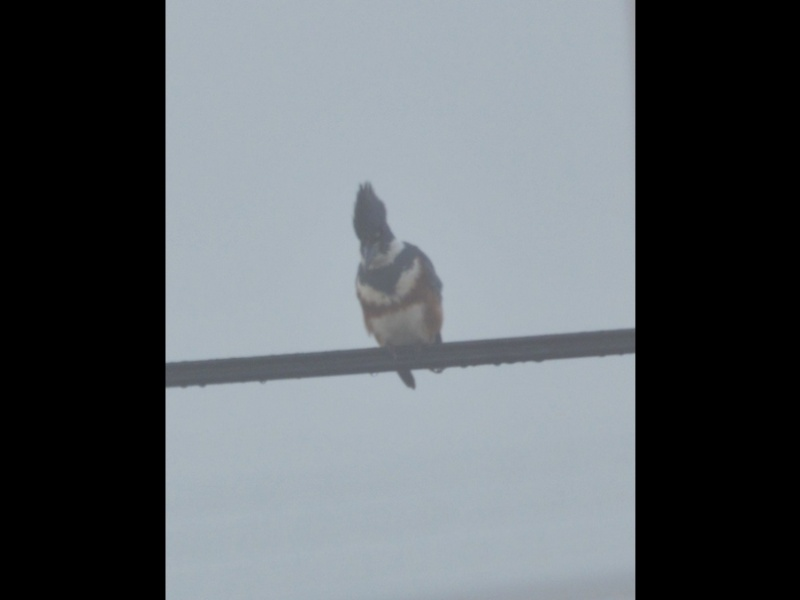kingfisher: (350, 179, 449, 391)
